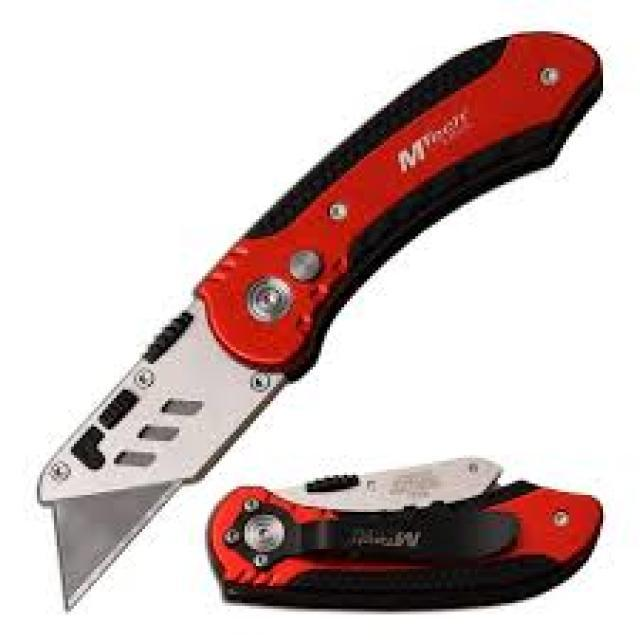cutter: (45, 34, 616, 614)
